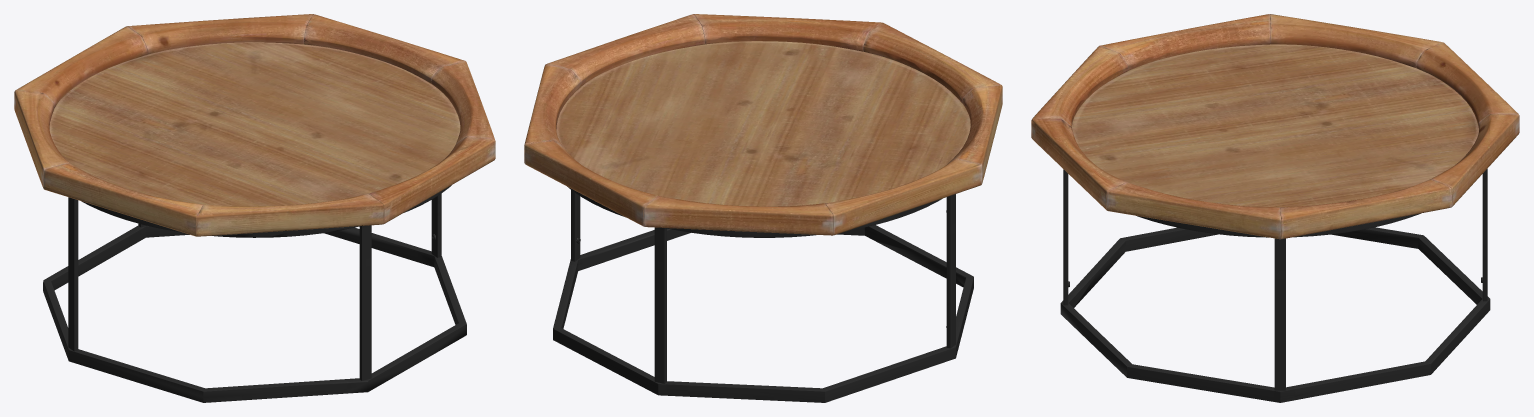
Rendered from B07B7DFM2G.glb.
The picture shows the model from 3 angles, left to right: view 1: azimuth 30°, elevation 25°; view 2: azimuth 150°, elevation 25°; view 3: azimuth 270°, elevation 25°; orthographic projection. The views are drawn at different scales.
Visible parts, largest first — view 1: RootNode; view 2: RootNode; view 3: RootNode.
Part boxes in pixels (<box>): RootNode: <box>14,14,495,402</box>; RootNode: <box>524,14,1002,402</box>; RootNode: <box>1031,14,1519,402</box>.
Size of the model in its own units: 1 by 0.4438 by 1.
Materials: 1 (1 with a texture image).
